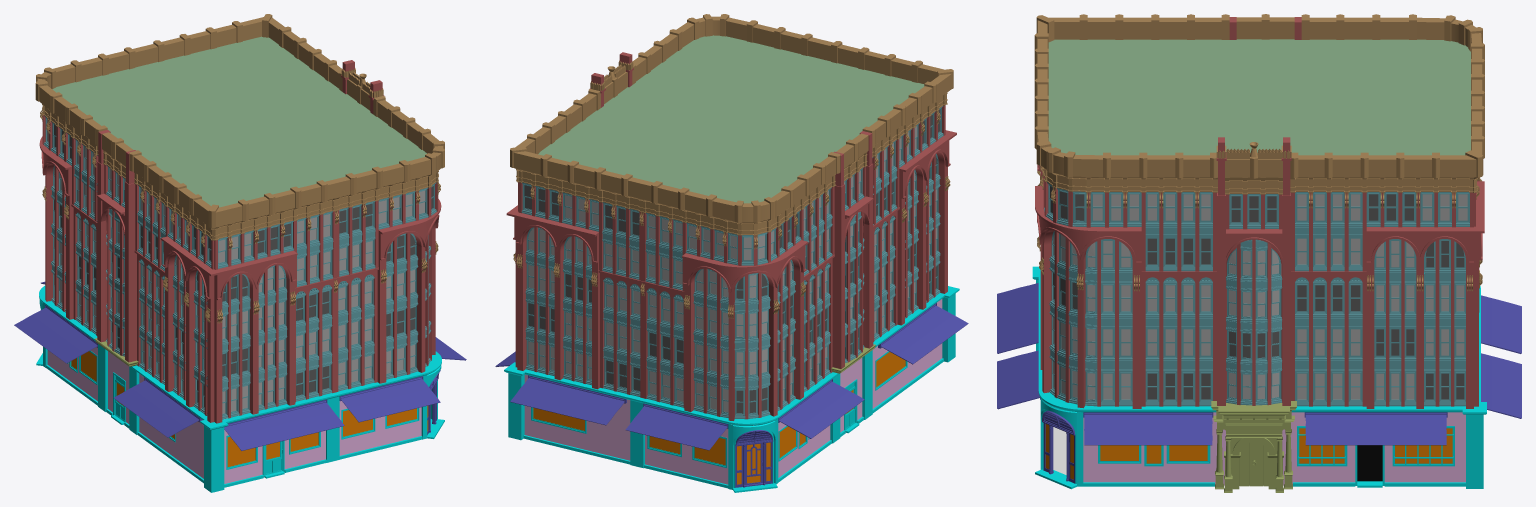
The model's file is SM_Main_building_01.fbx.
3 views of the same model, side by side, from view 1: azimuth 30°, elevation 25°; view 2: azimuth 150°, elevation 25°; view 3: azimuth 270°, elevation 25° (orthographic). The views are drawn at different scales.
Parts seen in each view (by area): view 1: SM_Main_building_01; view 2: SM_Main_building_01; view 3: SM_Main_building_01.
Part boxes in pixels (left/top/right/bottom): SM_Main_building_01: left=14, top=14, right=466, bottom=492; SM_Main_building_01: left=495, top=14, right=968, bottom=492; SM_Main_building_01: left=997, top=14, right=1521, bottom=492.
Size of what is drawn, in the model's own units: 1637 by 1511 by 2074.
